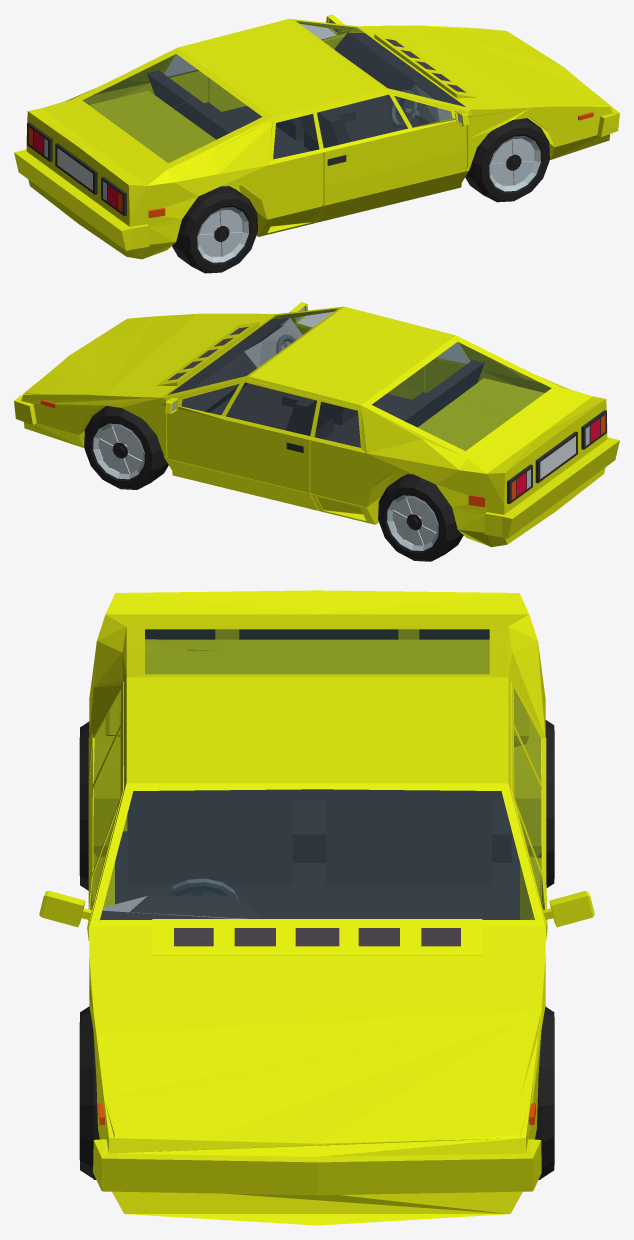
File: Low_Poly_Sportcar.obj
3 renders of one model, top to bottom at view 1: azimuth 30°, elevation 25°; view 2: azimuth 150°, elevation 25°; view 3: azimuth 270°, elevation 25°, orthographic. The views are drawn at different scales.
Parts seen in each view (by area): view 1: Car, Wheel.1, Wheel; view 2: Car, Wheel.3, Wheel.2; view 3: Car, Wheel, Wheel.2, Wheel.1, Wheel.3.
Part boxes in pixels (x1,y1,x2,y2): Car: (14, 14, 619, 259); Wheel.1: (172, 186, 257, 273); Wheel: (465, 118, 549, 202); Car: (14, 302, 619, 547); Wheel.3: (378, 474, 463, 561); Wheel.2: (84, 406, 168, 489); Car: (39, 590, 594, 1225); Wheel: (79, 1006, 99, 1179); Wheel.2: (535, 1006, 554, 1179); Wheel.1: (79, 721, 89, 890); Wheel.3: (545, 720, 554, 887).
Size of what is drawn, in the model's own units: 790 by 205 by 378.
